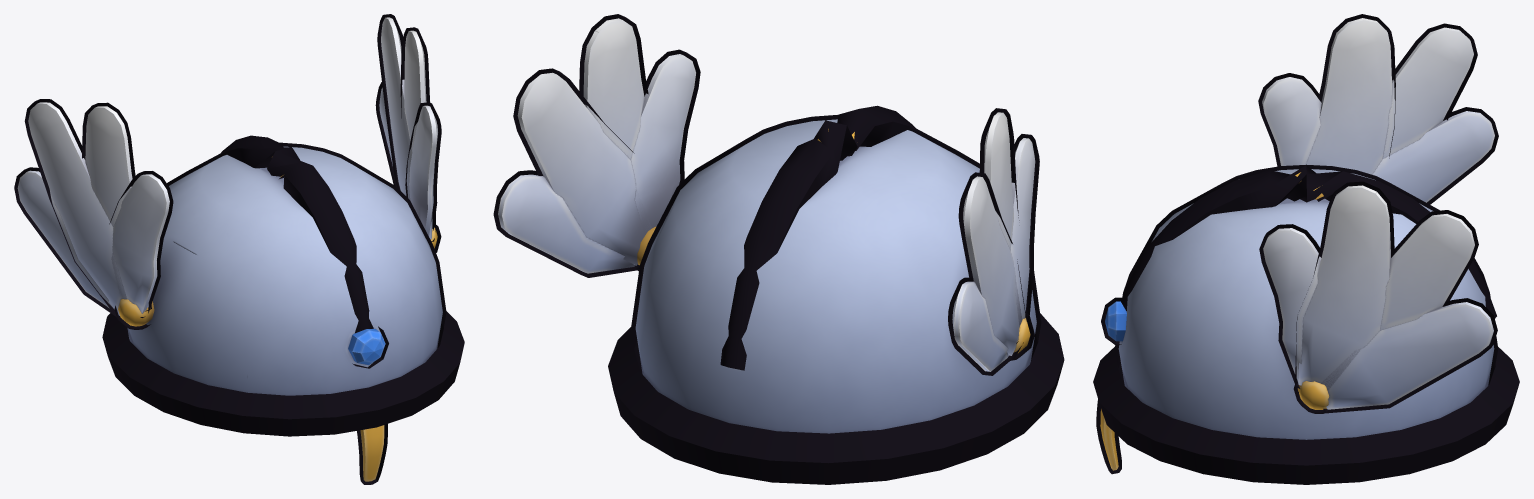
File: SkyValkyrieHelm.fbx
3 views of the same model, side by side, from view 1: azimuth 30°, elevation 25°; view 2: azimuth 150°, elevation 25°; view 3: azimuth 270°, elevation 25° (orthographic). The views are drawn at different scales.
Parts seen in each view (by area): view 1: SkyValkyrieHelm; view 2: SkyValkyrieHelm; view 3: SkyValkyrieHelm.
Boxes of the visible parts, left/top/right/bottom form: SkyValkyrieHelm: left=14, top=14, right=464, bottom=484; SkyValkyrieHelm: left=493, top=14, right=1064, bottom=484; SkyValkyrieHelm: left=1093, top=14, right=1519, bottom=484.
Size of the model in its own units: 191 by 163 by 169.
Materials: 1 (1 with a texture image).
